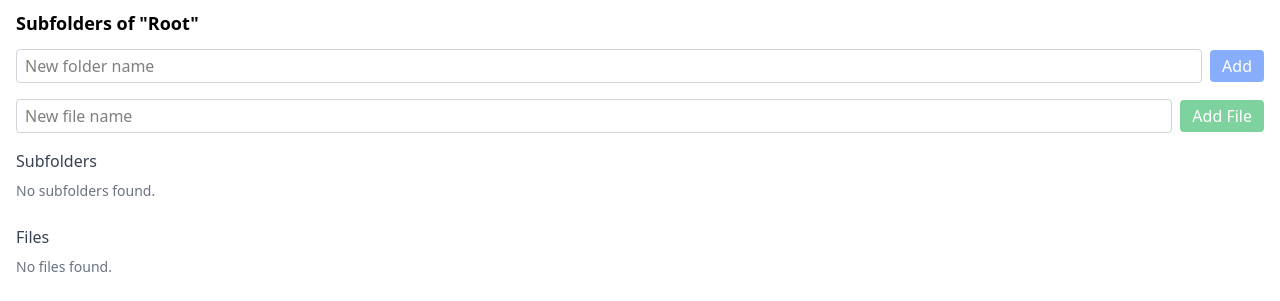
Test: SubfolderList › membuat subfolder baru dan mengirim event created serta open
expect the text "No subfolders found." is shown: met, box [16,181,155,200]
Type "New Folder" into the field with placeholder "New folder name".
click(609, 66); type("New Folder")  # box [16,49,1202,83]
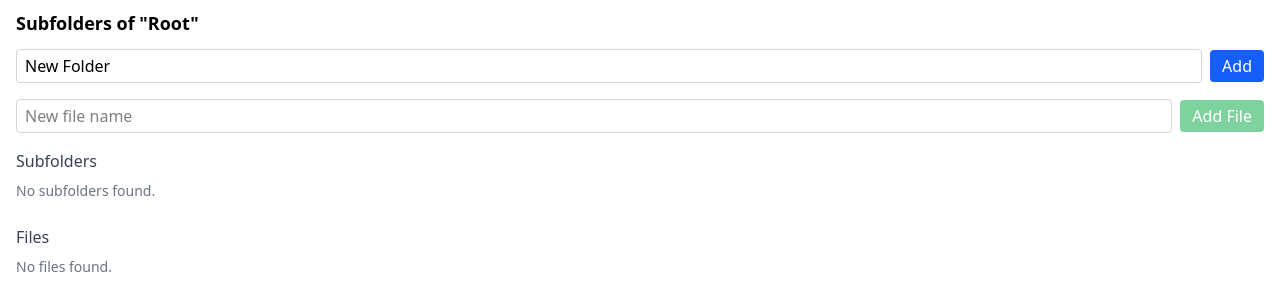
expect the button "Add" is enabled: met
Click the button "Add".
click(1237, 66)  # box [1210,50,1264,82]
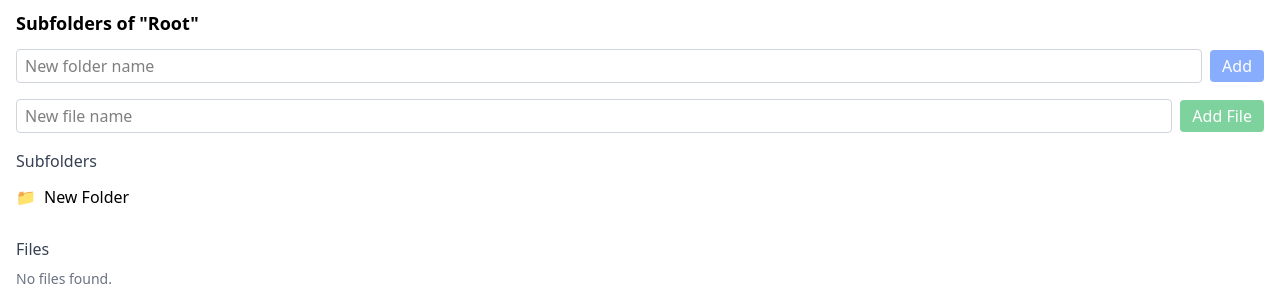
expect the text "New Folder" is shown: met, box [44,185,129,209]
